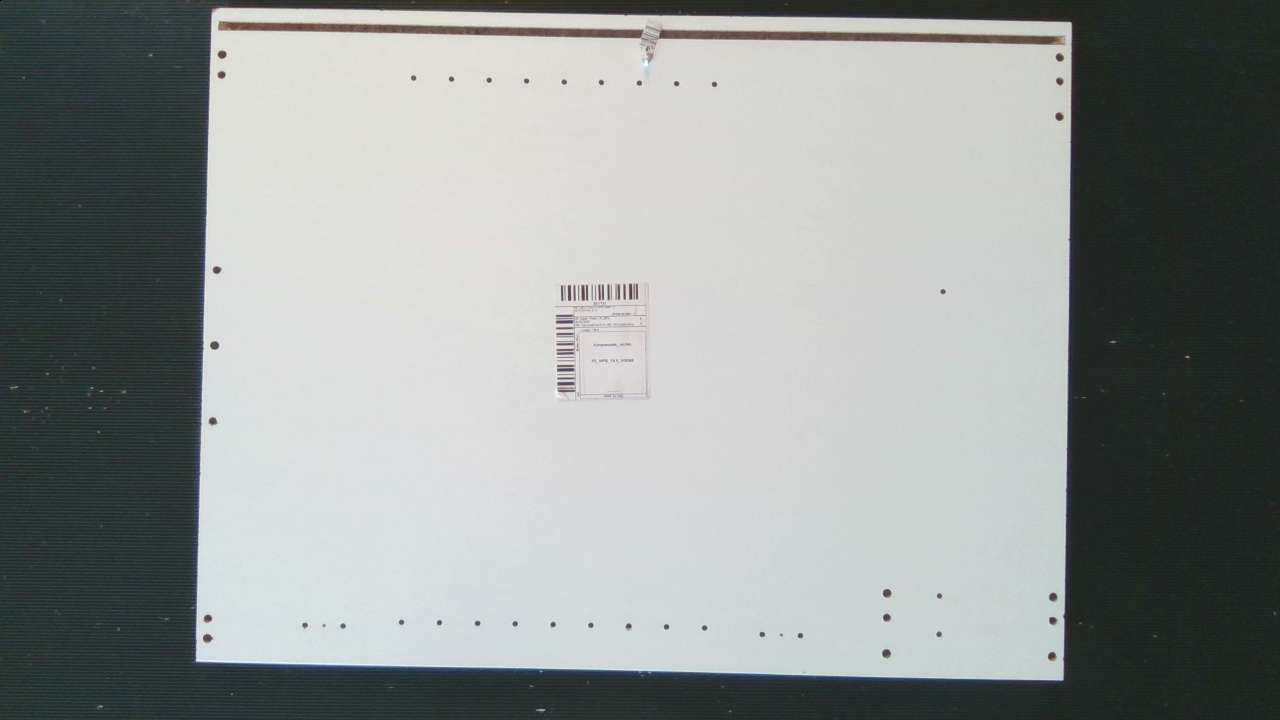barcode: (550, 272, 671, 412)
